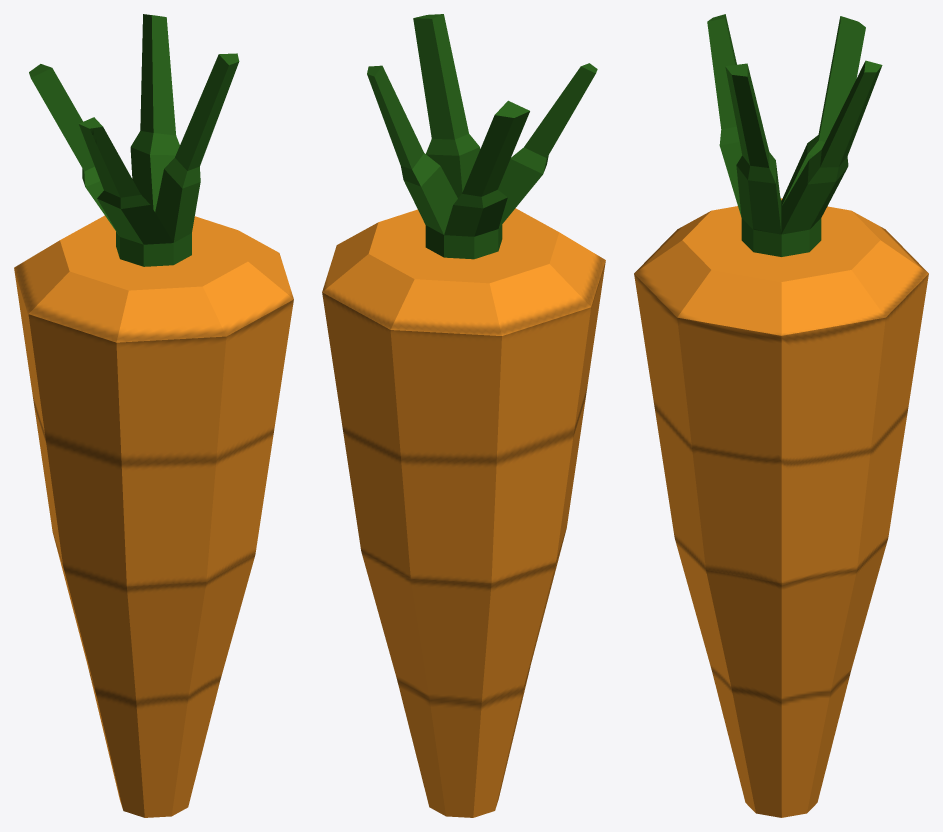
File: carrot.fbx
3 renders of one model, left to right at view 1: azimuth 30°, elevation 25°; view 2: azimuth 150°, elevation 25°; view 3: azimuth 270°, elevation 25°, orthographic.
Visible parts, largest first — view 1: Cylinder; view 2: Cylinder; view 3: Cylinder.
Part boxes in pixels (x1,y1,x2,y2): Cylinder: (14, 14, 293, 817); Cylinder: (322, 14, 605, 817); Cylinder: (634, 14, 928, 817).
Bounding box in the file's own units: 0.1535 × 0.4383 × 0.1535.
